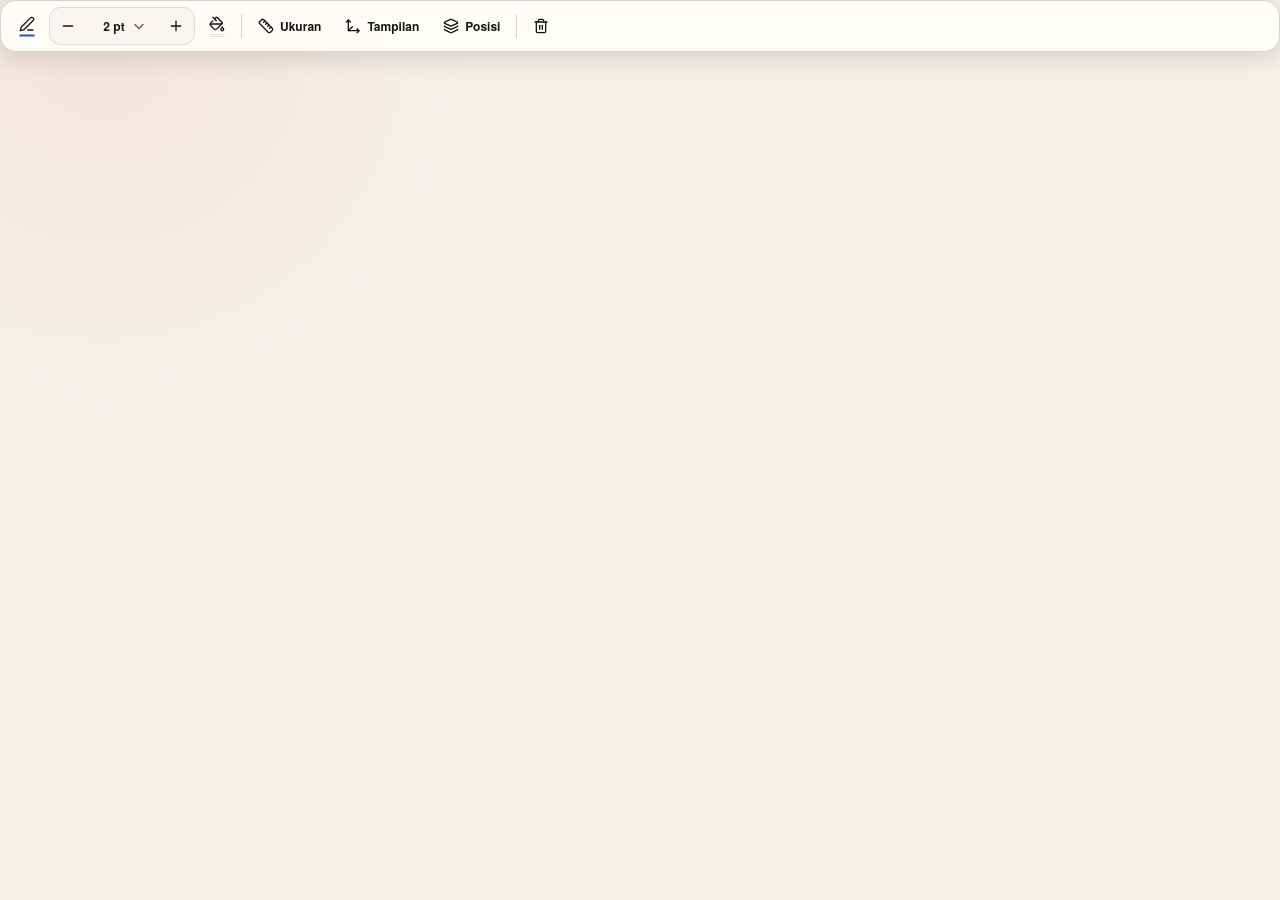
Scenario: PropertiesBar popovers › closes a popover when the pointer goes elsewhere
The image size is (1280, 900).
Click the button labelled "Tampilan": [382, 26] box [335,8,429,44]
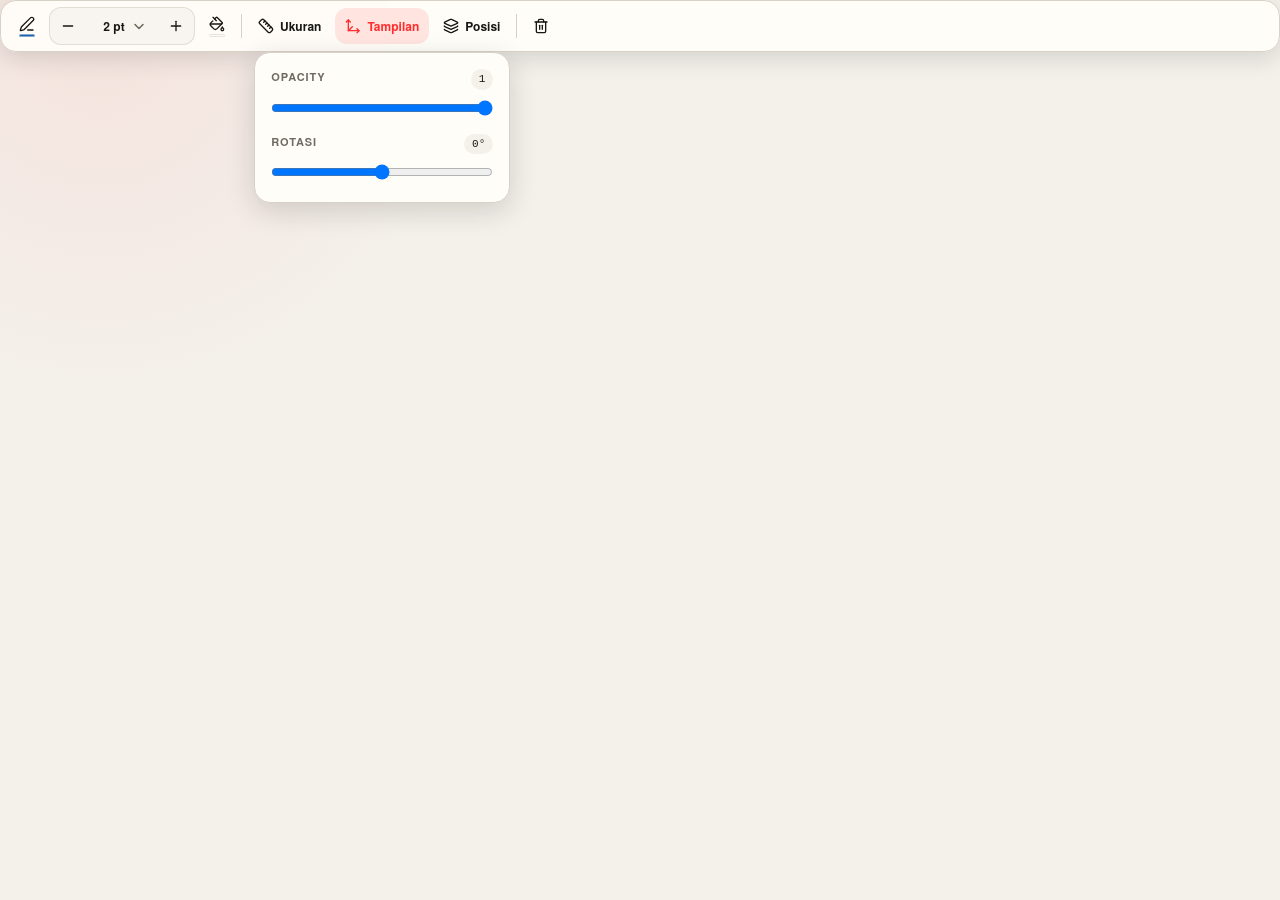
Result: the slider labelled "Opacity" is shown at [271,100,493,116]
Press the mouse on the element showing "Ukuran Tampilan Posisi Opacity 1 Rotasi 0°": [640, 450] box [0,0,1279,899]
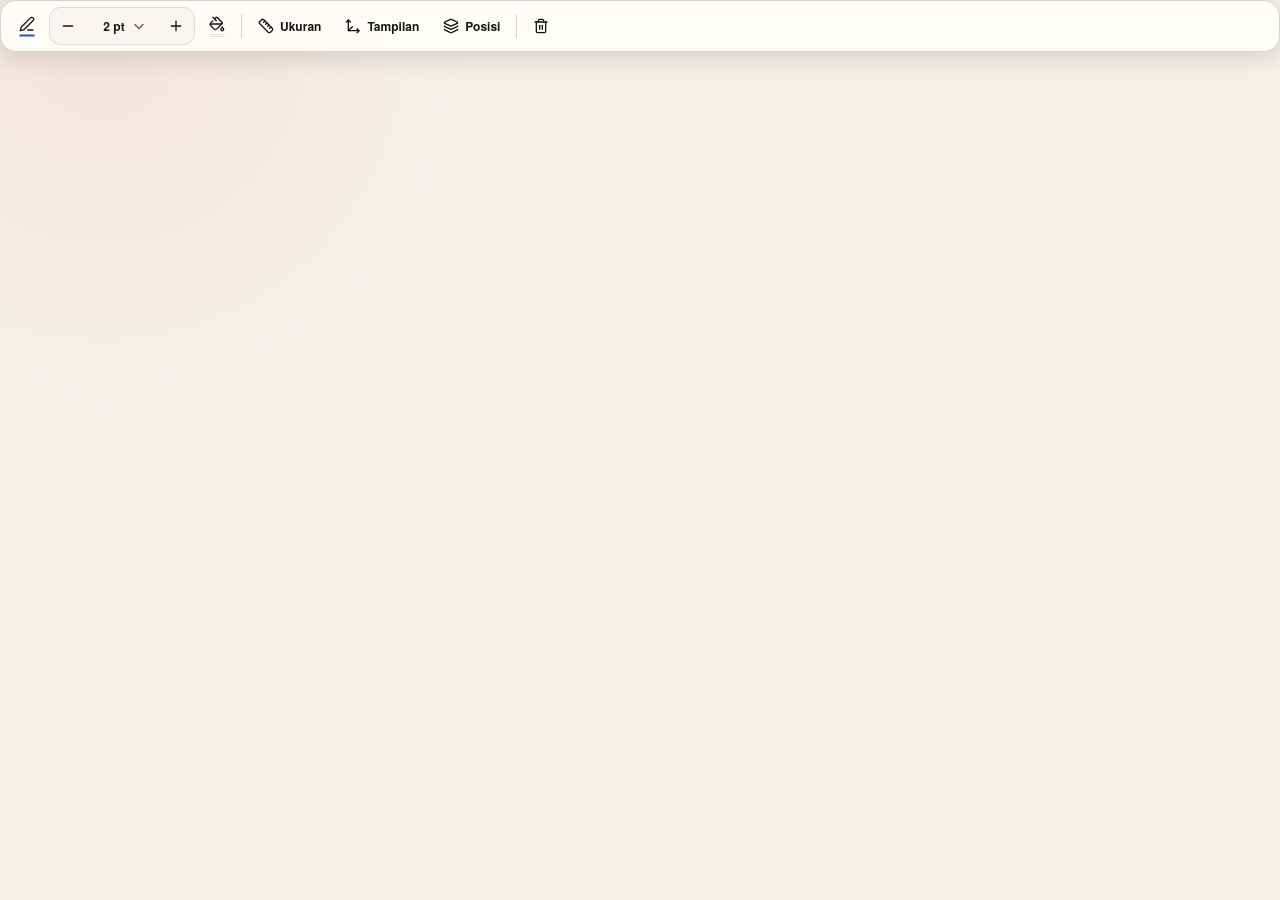
Result: the label labelled "Opacity" is gone
